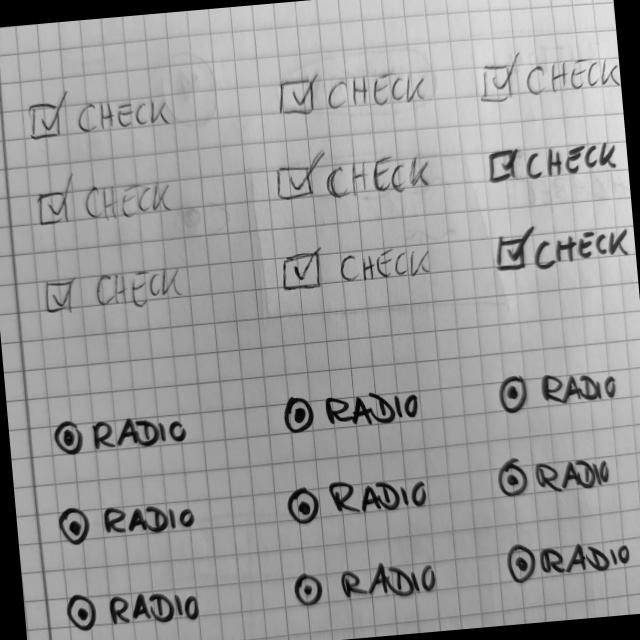checkbox: (270, 140, 434, 204), (472, 42, 622, 108), (32, 163, 178, 230), (23, 80, 175, 144), (272, 58, 430, 119), (278, 234, 438, 294), (40, 260, 188, 318), (491, 216, 633, 274), (481, 132, 624, 186)
radio: (290, 554, 440, 612), (281, 472, 431, 528), (63, 578, 202, 638), (54, 493, 202, 548), (278, 382, 422, 438), (503, 528, 635, 588), (48, 405, 194, 459), (494, 361, 624, 416), (493, 445, 614, 499)
